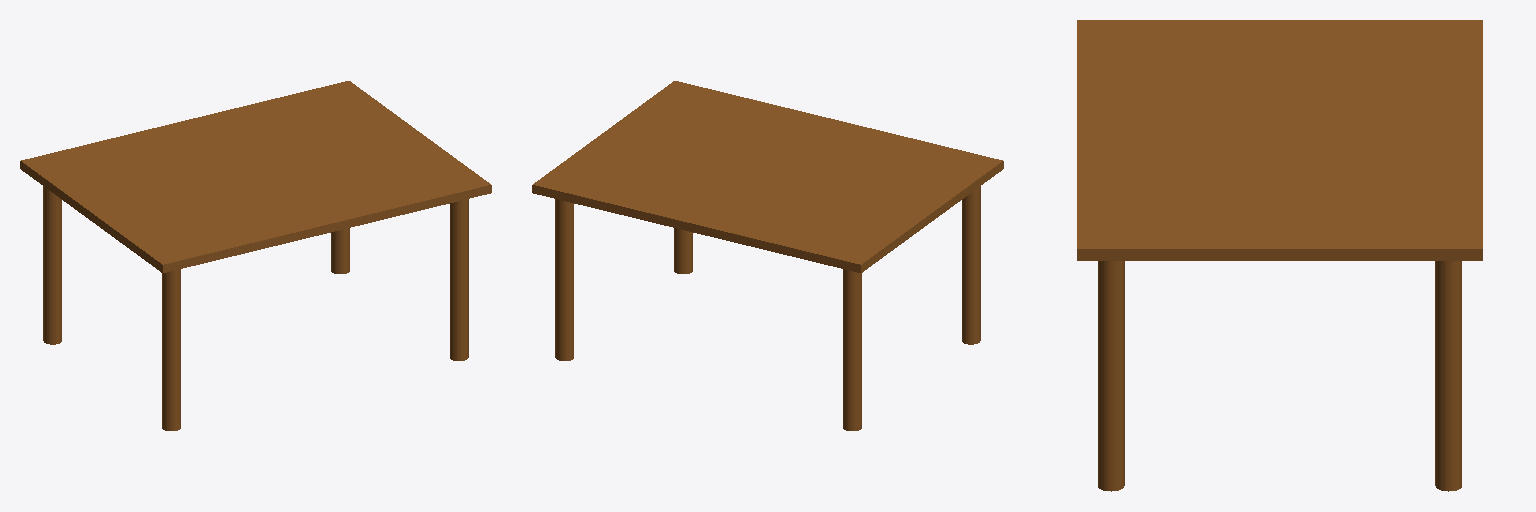
URDF robot description (table):
<?xml version="1.0"?>
<robot name="table">
    <link name="table_link">
        <visual>
            <geometry>
                <box size="0.8 0.6 0.02"/>
            </geometry>
            <material name="brown">
                <color rgba="0.6 0.4 0.2 1"/>
            </material>
        </visual>
        <collision>
            <geometry>
                <box size="0.8 0.6 0.02"/>
            </geometry>
        </collision>
        <inertial>
            <mass value="5"/>
            <inertia ixx="0.1" ixy="0" ixz="0" iyy="0.1" iyz="0" izz="0.1"/>
        </inertial>
    </link>

    <link name="leg1">
        <visual>
            <geometry>
                <cylinder radius="0.02" length="0.4"/>
            </geometry>
            <material name="brown"/>
        </visual>
        <collision>
            <geometry>
                <cylinder radius="0.02" length="0.4"/>
            </geometry>
        </collision>
        <inertial>
            <mass value="0.5"/>
            <inertia ixx="0.01" ixy="0" ixz="0" iyy="0.01" iyz="0" izz="0.01"/>
        </inertial>
    </link>

    <joint name="table_to_leg1" type="fixed">
        <parent link="table_link"/>
        <child link="leg1"/>
        <origin xyz="0.35 0.25 -0.2" rpy="0 0 0"/>
    </joint>

    <link name="leg2">
        <visual>
            <geometry>
                <cylinder radius="0.02" length="0.4"/>
            </geometry>
            <material name="brown"/>
        </visual>
        <collision>
            <geometry>
                <cylinder radius="0.02" length="0.4"/>
            </geometry>
        </collision>
        <inertial>
            <mass value="0.5"/>
            <inertia ixx="0.01" ixy="0" ixz="0" iyy="0.01" iyz="0" izz="0.01"/>
        </inertial>
    </link>

    <joint name="table_to_leg2" type="fixed">
        <parent link="table_link"/>
        <child link="leg2"/>
        <origin xyz="0.35 -0.25 -0.2" rpy="0 0 0"/>
    </joint>

    <link name="leg3">
        <visual>
            <geometry>
                <cylinder radius="0.02" length="0.4"/>
            </geometry>
            <material name="brown"/>
        </visual>
        <collision>
            <geometry>
                <cylinder radius="0.02" length="0.4"/>
            </geometry>
        </collision>
        <inertial>
            <mass value="0.5"/>
            <inertia ixx="0.01" ixy="0" ixz="0" iyy="0.01" iyz="0" izz="0.01"/>
        </inertial>
    </link>

    <joint name="table_to_leg3" type="fixed">
        <parent link="table_link"/>
        <child link="leg3"/>
        <origin xyz="-0.35 0.25 -0.2" rpy="0 0 0"/>
    </joint>

    <link name="leg4">
        <visual>
            <geometry>
                <cylinder radius="0.02" length="0.4"/>
            </geometry>
            <material name="brown"/>
        </visual>
        <collision>
            <geometry>
                <cylinder radius="0.02" length="0.4"/>
            </geometry>
        </collision>
        <inertial>
            <mass value="0.5"/>
            <inertia ixx="0.01" ixy="0" ixz="0" iyy="0.01" iyz="0" izz="0.01"/>
        </inertial>
    </link>

    <joint name="table_to_leg4" type="fixed">
        <parent link="table_link"/>
        <child link="leg4"/>
        <origin xyz="-0.35 -0.25 -0.2" rpy="0 0 0"/>
    </joint>
</robot> 

--- Render facts (derived) ---
The picture shows the robot from 3 angles, left to right: view 1: azimuth 30°, elevation 25°; view 2: azimuth 150°, elevation 25°; view 3: azimuth 270°, elevation 25°; orthographic projection.
Robot: table — 5 links, 4 joints (4 fixed); root link table_link; default pose: all joints at 0.
Links seen in each view (by area): view 1: table_link, leg2, leg4, leg3, leg1; view 2: table_link, leg1, leg3, leg4, leg2; view 3: table_link, leg1, leg2.
Boxes of the visible links, left/top/right/bottom form: table_link: left=20, top=81, right=491, bottom=272; leg2: left=450, top=199, right=468, bottom=360; leg4: left=162, top=269, right=180, bottom=430; leg3: left=43, top=186, right=61, bottom=344; leg1: left=331, top=228, right=349, bottom=273; table_link: left=532, top=81, right=1003, bottom=272; leg1: left=555, top=199, right=573, bottom=360; leg3: left=843, top=269, right=861, bottom=430; leg4: left=962, top=186, right=980, bottom=344; leg2: left=674, top=228, right=692, bottom=273; table_link: left=1077, top=20, right=1482, bottom=260; leg1: left=1435, top=261, right=1461, bottom=491; leg2: left=1098, top=261, right=1124, bottom=491.
Size in the robot's own frame: 0.8 by 0.6 by 0.41 metres.
Geometry: primitives only (box / cylinder / sphere), no mesh files.